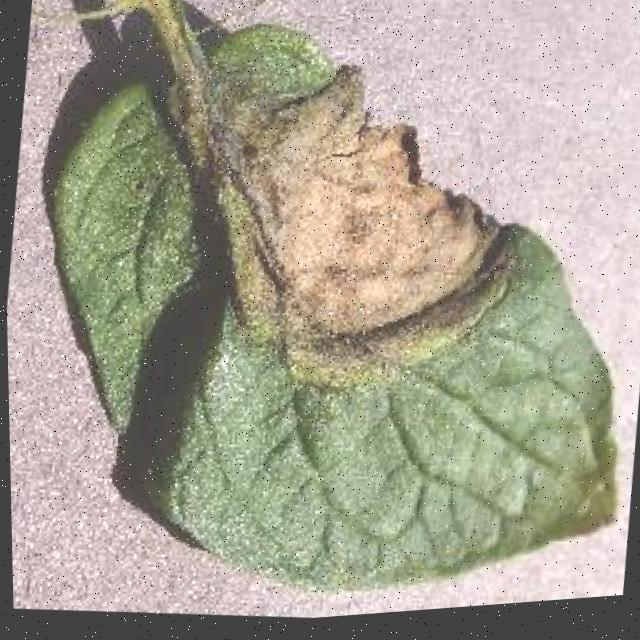Late_blight: (178, 56, 548, 427)
